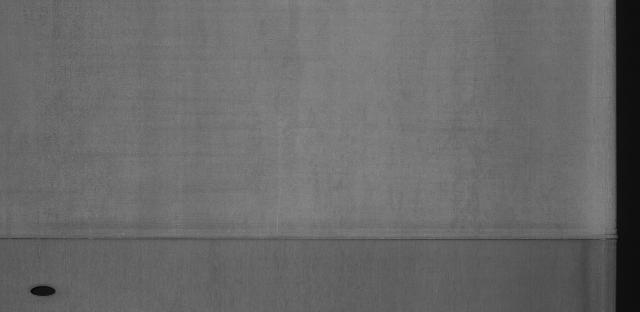punching_hole: (26, 279, 63, 302)
welding_line: (3, 228, 632, 251)
